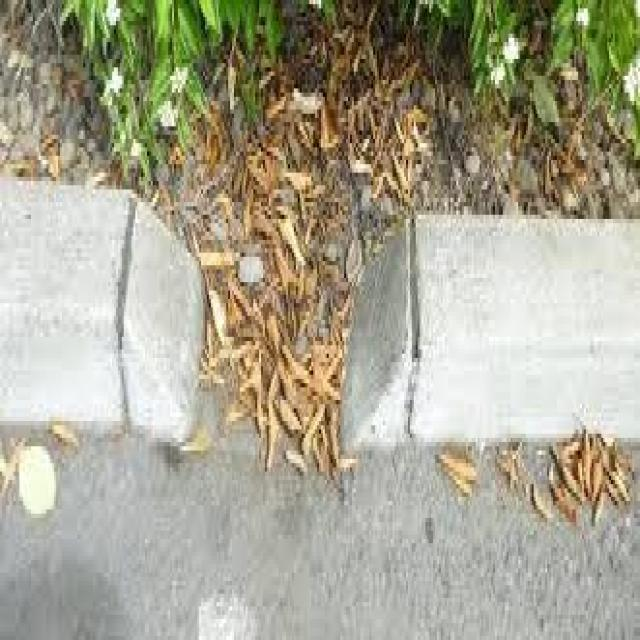bump: (328, 186, 640, 473), (0, 146, 221, 462)
